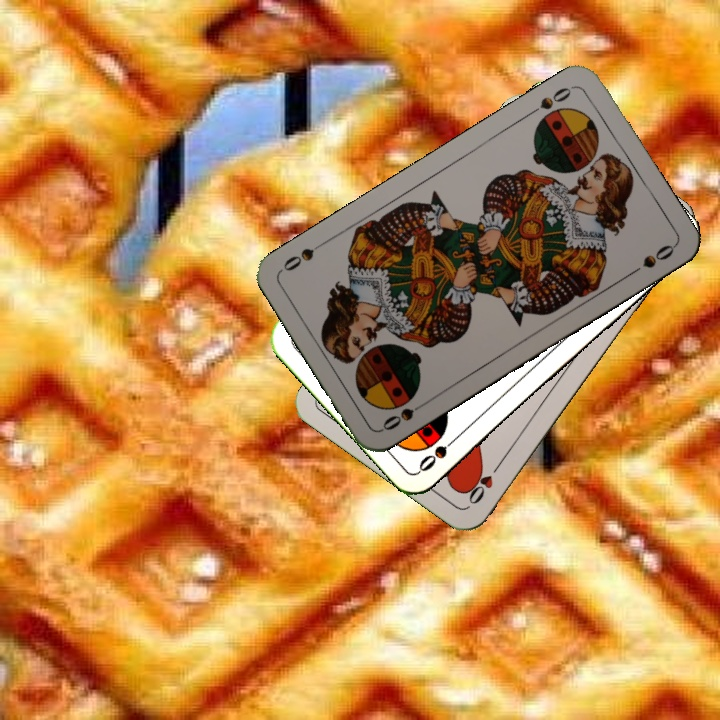HO: (463, 457, 505, 507)
SO: (414, 430, 463, 474), (523, 81, 576, 119), (378, 396, 431, 433)
